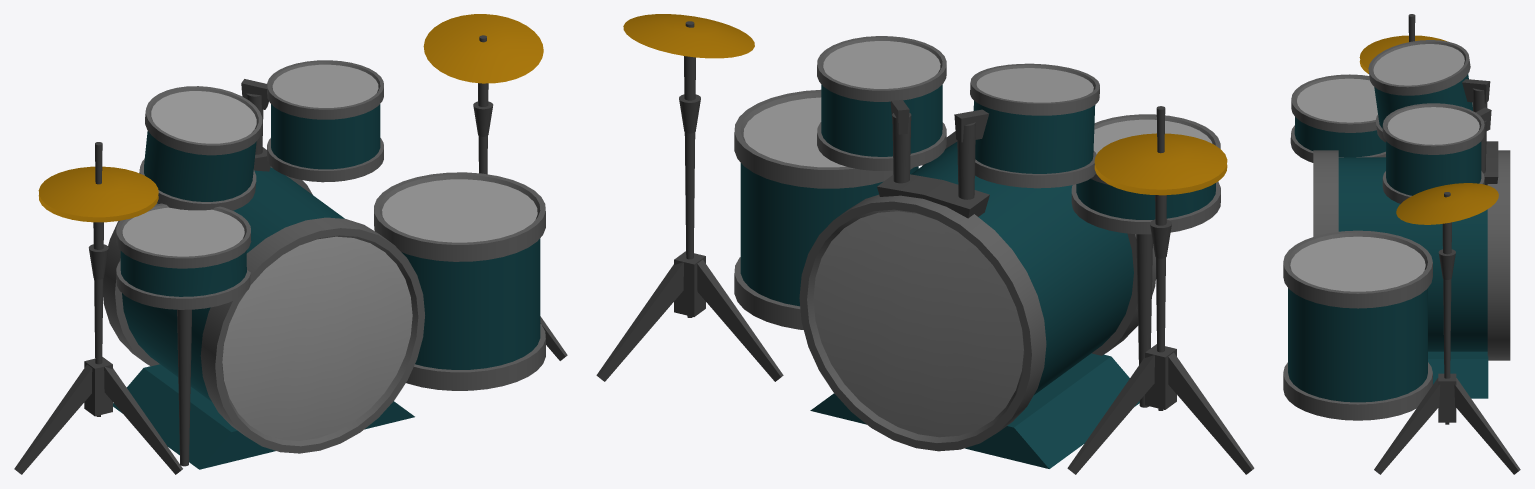
The model's file is Drums.fbx.
The picture shows the model from 3 angles, left to right: view 1: azimuth 30°, elevation 25°; view 2: azimuth 150°, elevation 25°; view 3: azimuth 270°, elevation 25°; orthographic projection. The views are drawn at different scales.
Parts seen in each view (by area): view 1: Drums; view 2: Drums; view 3: Drums.
Boxes of the visible parts, box(x1,y1,x2,y2) form: Drums: box(14, 14, 567, 474); Drums: box(596, 14, 1254, 474); Drums: box(1283, 14, 1520, 474).
Size of the model in its own units: 232 by 129 by 101.
